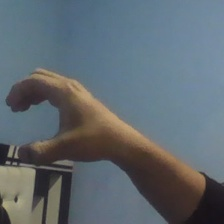C: (4, 65, 108, 167)
